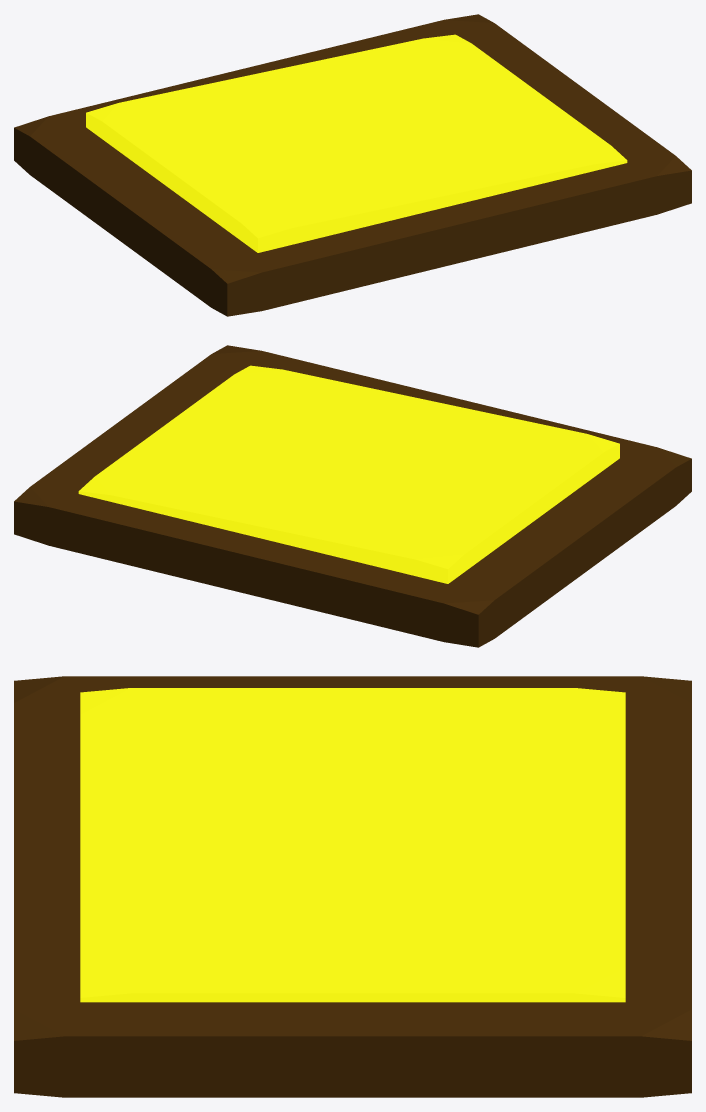
Rendered from Button_active.fbx.
3 views of the same model, one above another, from view 1: azimuth 30°, elevation 25°; view 2: azimuth 150°, elevation 25°; view 3: azimuth 270°, elevation 25° (orthographic). The views are drawn at different scales.
Parts seen in each view (by area): view 1: Button1; view 2: Button1; view 3: Button1.
Boxes of the visible parts, left/top/right/bottom form: Button1: left=14, top=14, right=691, bottom=316; Button1: left=14, top=345, right=691, bottom=647; Button1: left=14, top=676, right=691, bottom=1097.
Size of the model in its own units: 18.03 by 2.09 by 14.35.
